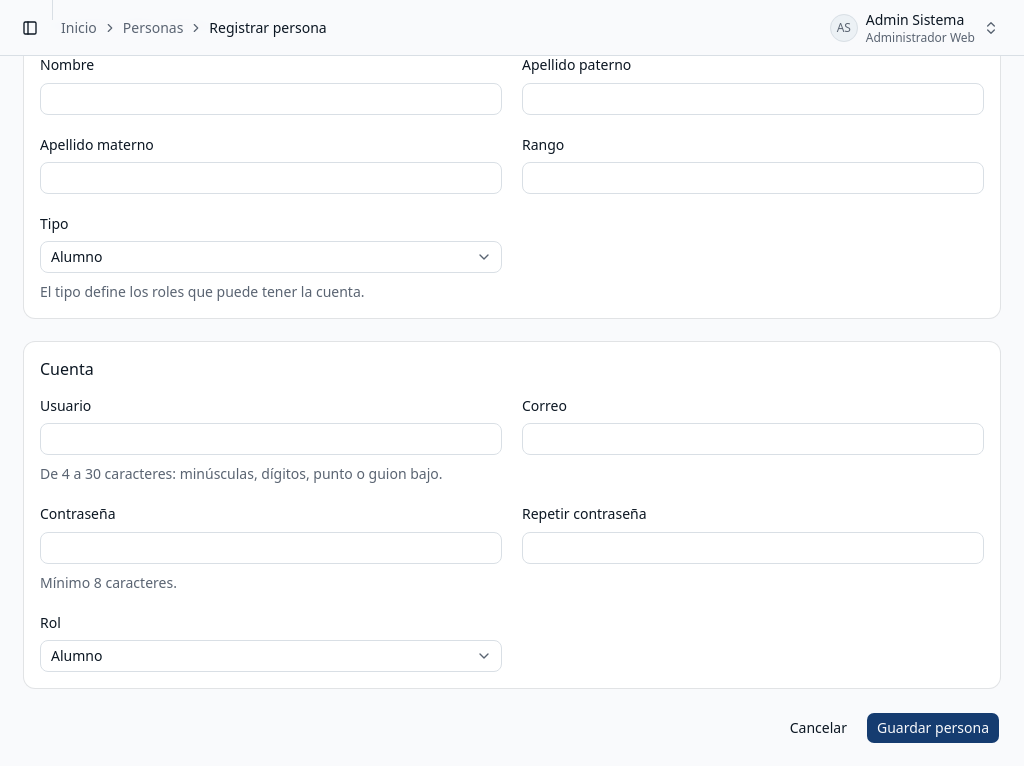
Registrar persona › CA-PER-02 exige los datos de la persona y de la cuenta
(page scrolled)
Click the button "Guardar persona" at (933, 728), box [866,712,1000,744]
(page scrolled)
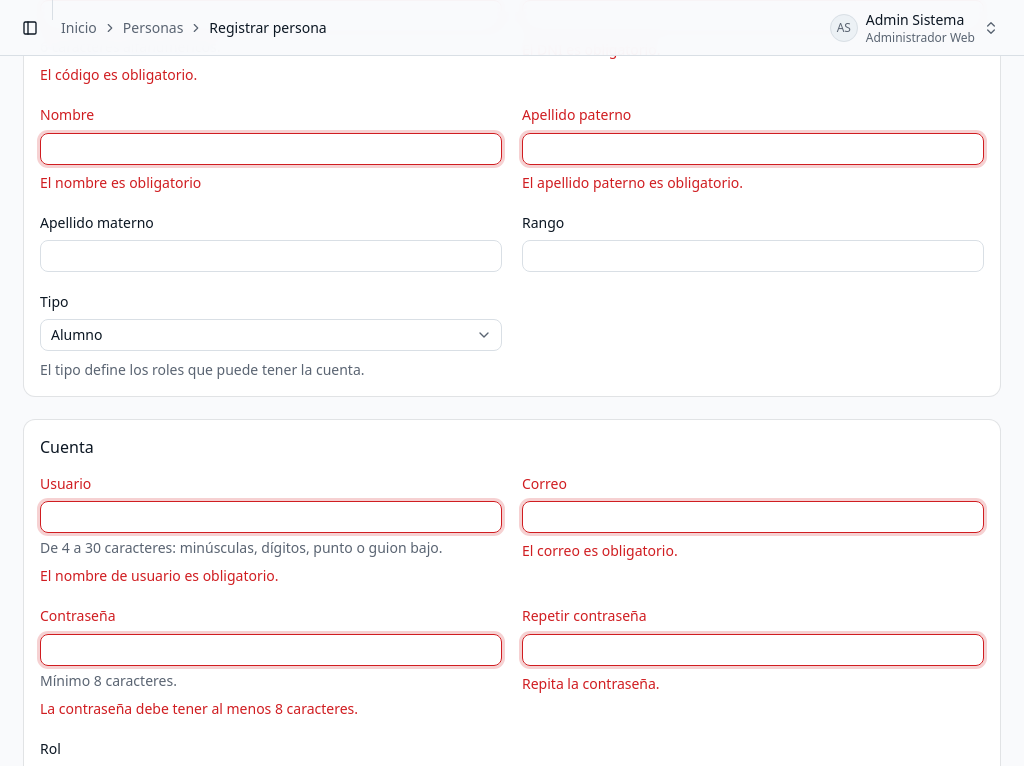
Expected: the text "El código es obligatorio." is shown, [40,65,197,84]
Expected: the text "El DNI es obligatorio." is shown, [522,40,660,59]
Expected: the text "El nombre es obligatorio" is shown, [40,172,201,192]
